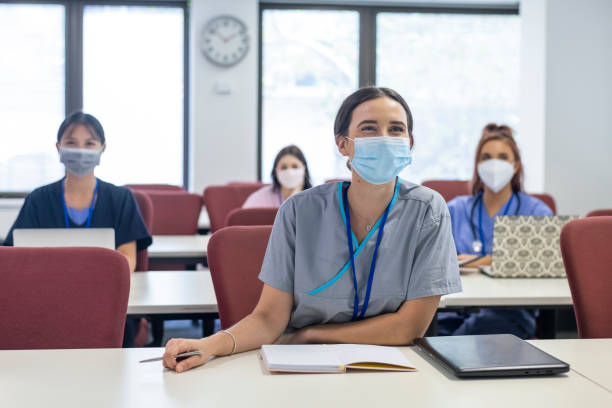with mask: (337, 78, 415, 182), (469, 122, 523, 197), (49, 116, 107, 177), (269, 133, 308, 194)
